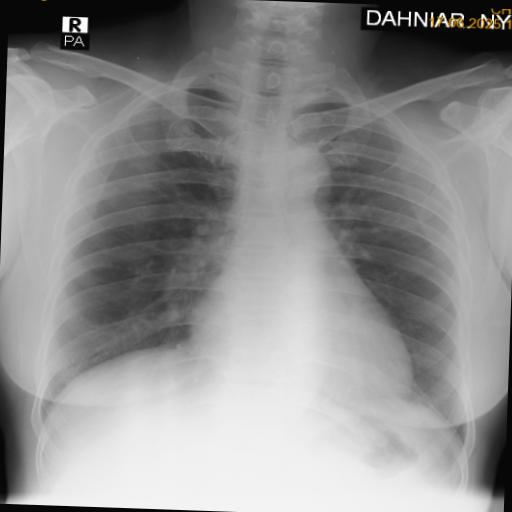kardiomegali: (24, 30, 492, 454)
